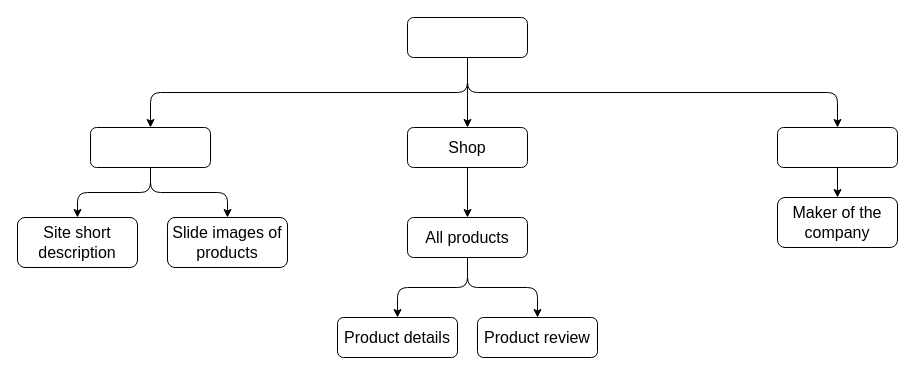
Image size: 915x375. Some labels were removed from this diagram. Here are the shapes that lost their labels. From the top down, the box of each, then its label:
(406, 16, 528, 58): Header
(90, 126, 210, 168): Home
(776, 126, 898, 168): About Us
